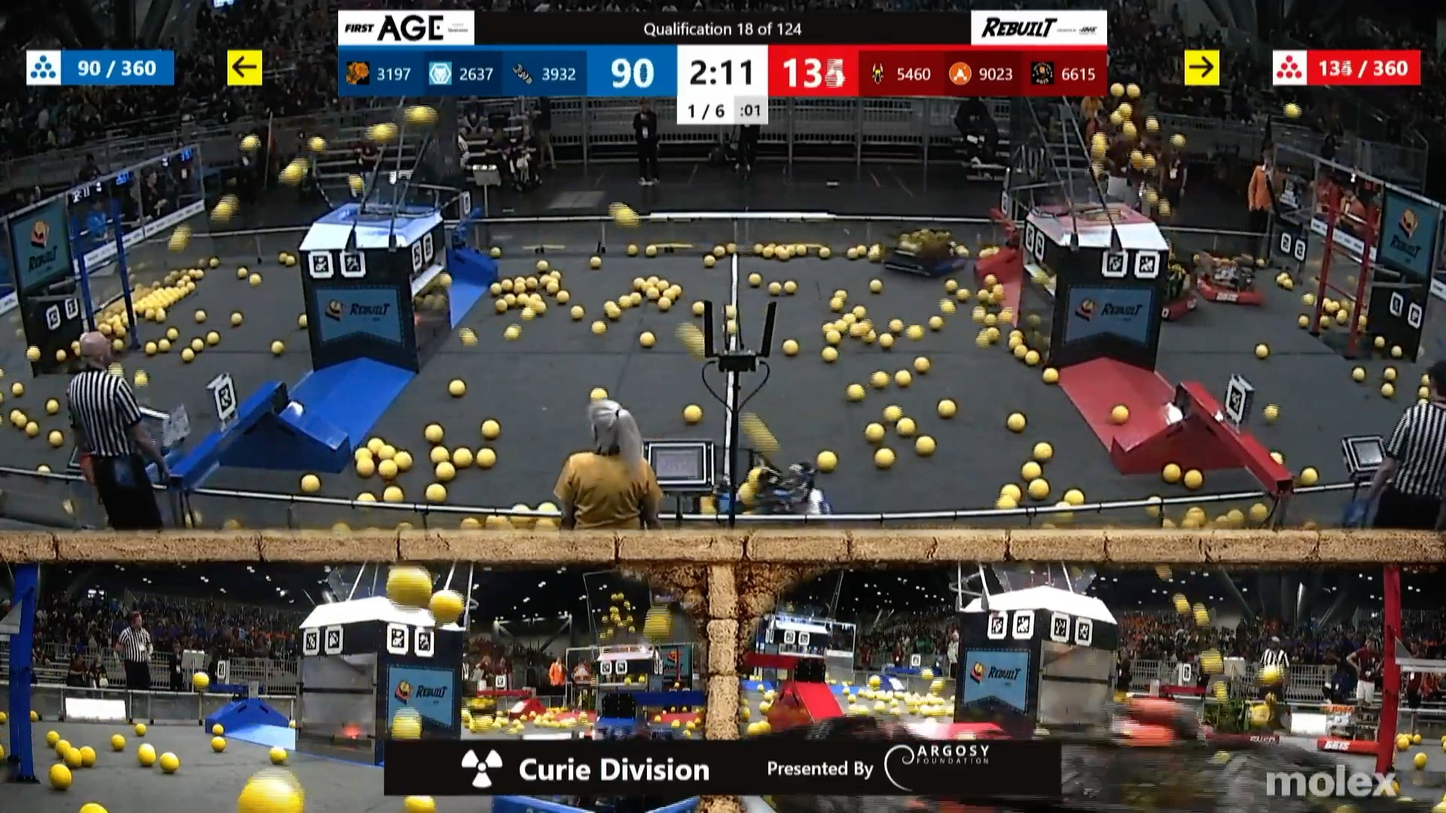bumpers: (1182, 271, 1268, 310), (1302, 723, 1387, 760), (875, 250, 975, 280), (1202, 733, 1285, 748)
